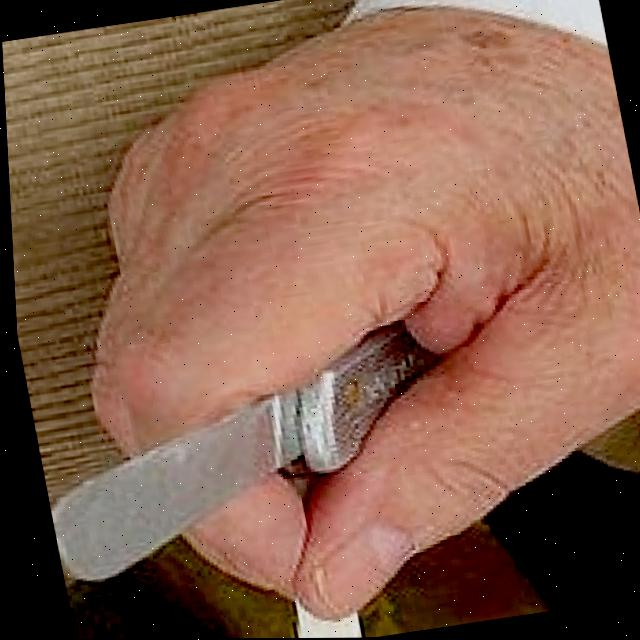knife: (19, 322, 463, 587)
